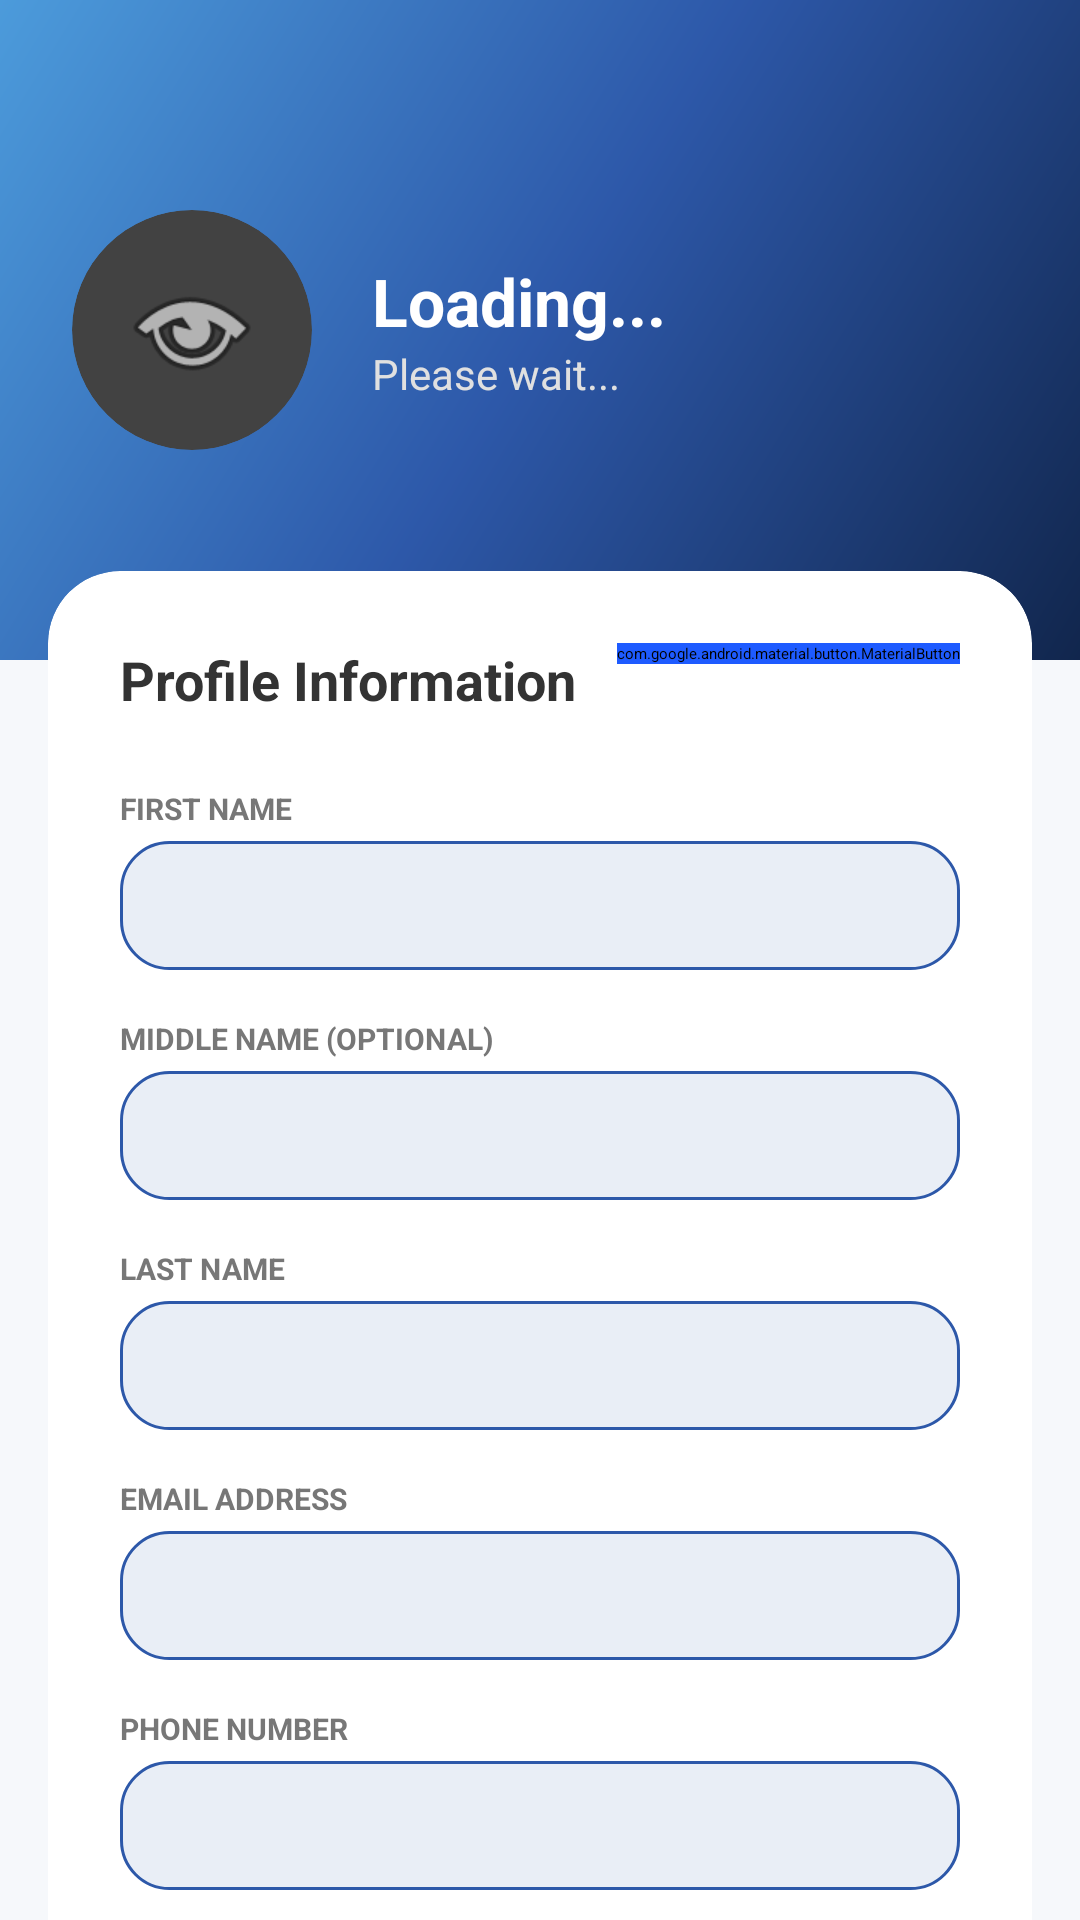

Where icons sit on this 1080w x 1920h app screen, as (x1, y1, x2, y2):
view: (72, 210, 312, 450)
